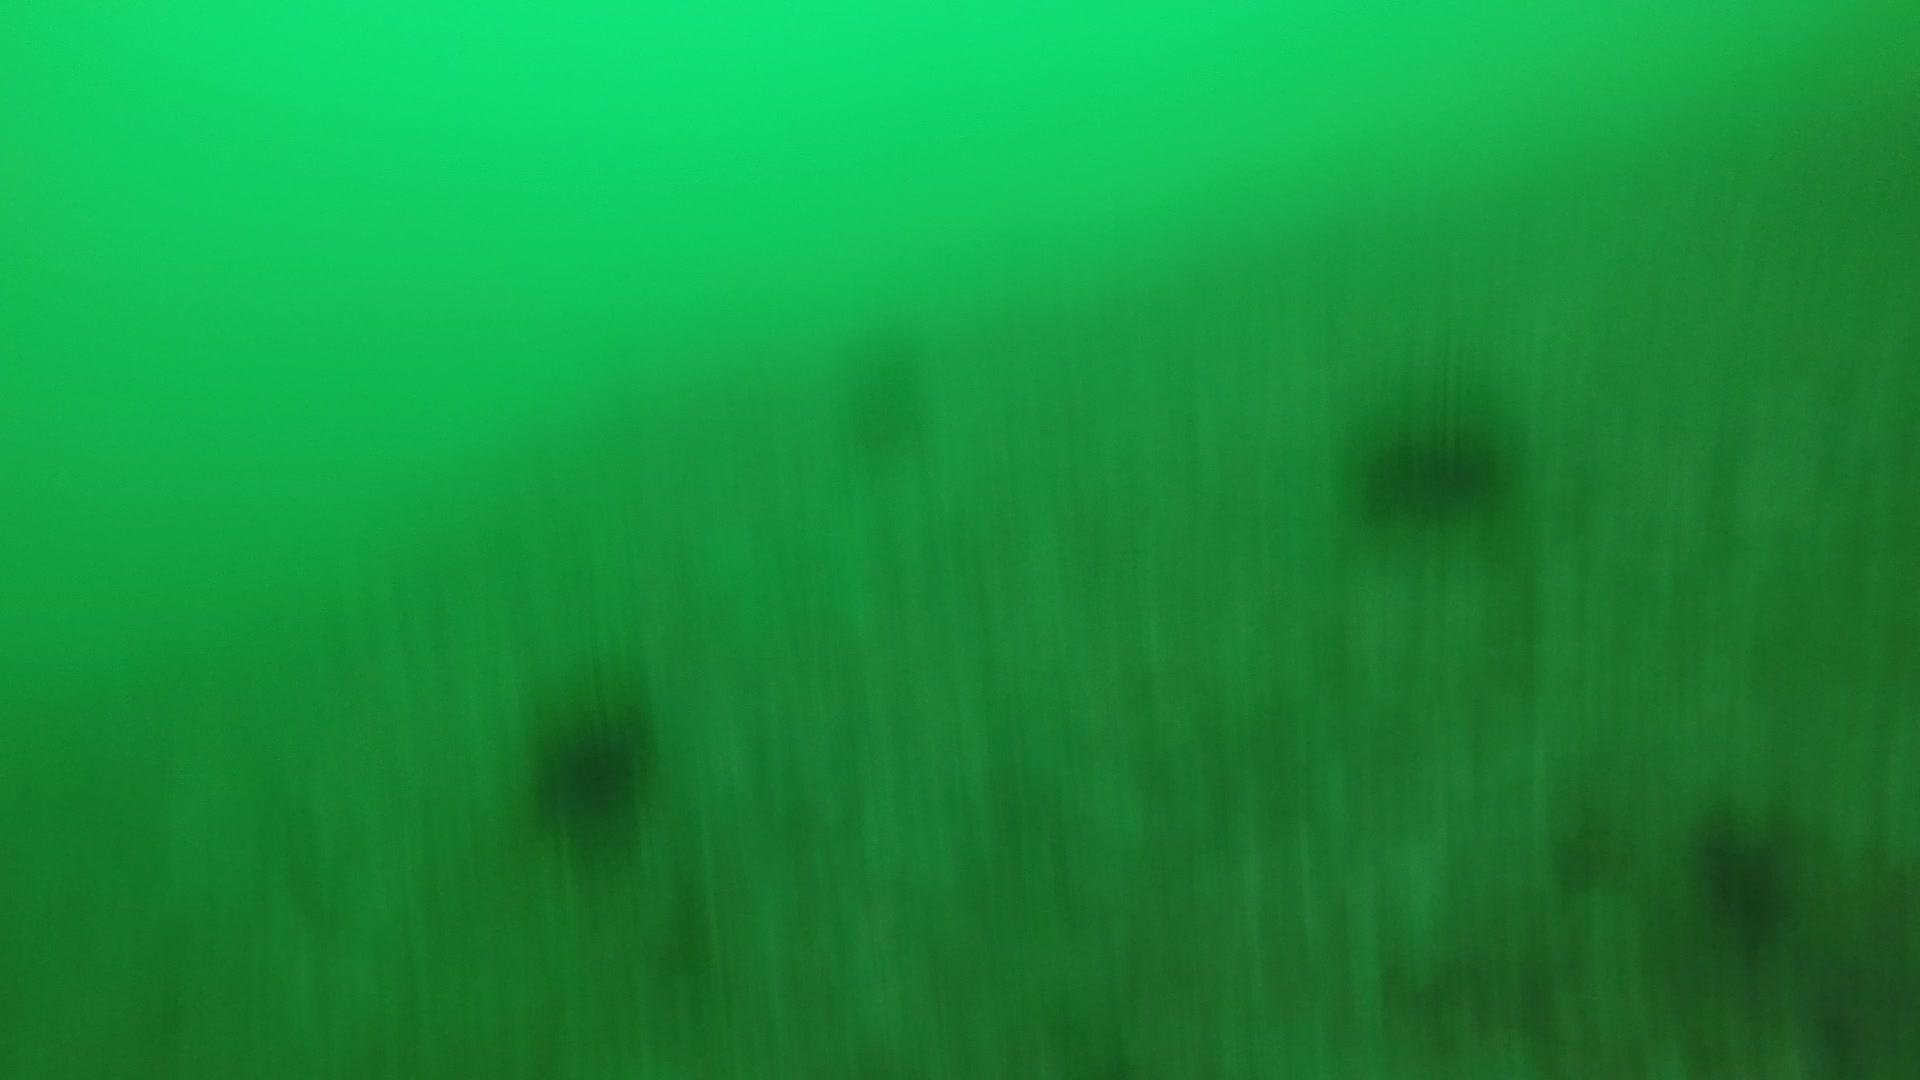echinus: (520, 680, 662, 843), (1348, 401, 1519, 529), (1684, 799, 1808, 947), (828, 324, 939, 459)
